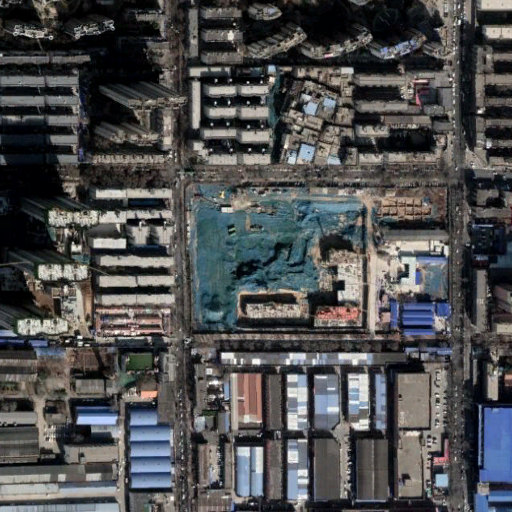cw: (186, 183, 367, 333), (421, 262, 450, 301)
